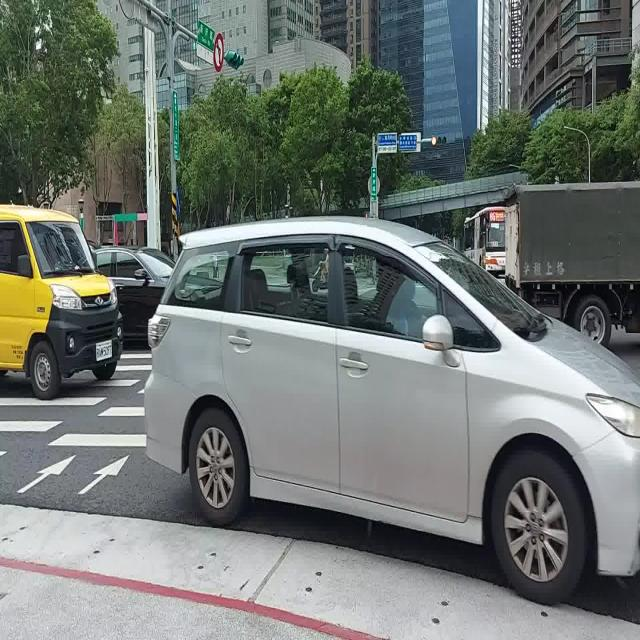bus: (464, 204, 505, 277)
car: (145, 218, 640, 604), (0, 204, 124, 398), (95, 247, 172, 340)
crosswalk: (0, 353, 150, 454)
trunk: (505, 182, 640, 346)
